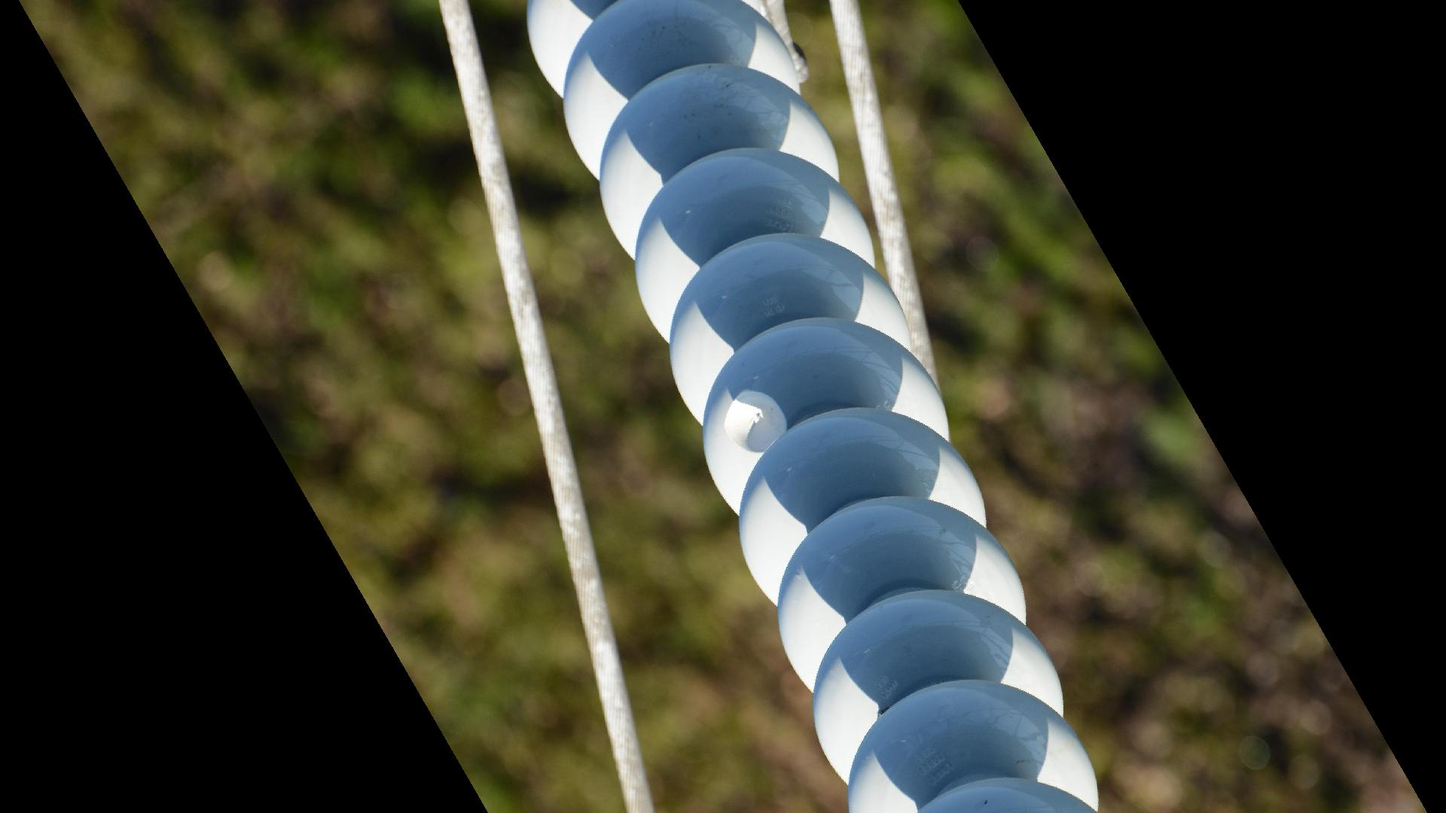insulator: (515, 1, 1108, 813)
insulator_breakage: (713, 376, 804, 467)
